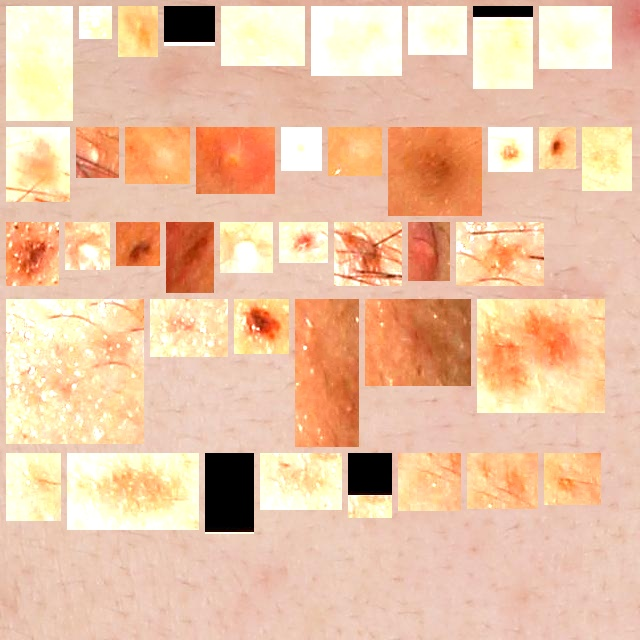hypertrophic_scar: (133, 135, 182, 176), (336, 135, 374, 168), (289, 135, 314, 163)
melasma: (14, 307, 136, 436), (485, 307, 597, 405), (75, 461, 191, 522), (373, 307, 463, 378), (303, 307, 351, 439), (14, 14, 65, 113), (319, 14, 394, 68), (464, 230, 536, 278), (229, 14, 297, 58), (481, 14, 525, 81), (268, 461, 334, 502), (547, 14, 604, 61), (158, 307, 220, 349), (475, 461, 530, 501), (213, 461, 246, 526), (14, 461, 53, 513), (406, 461, 453, 503), (590, 135, 624, 183), (552, 461, 593, 497), (416, 14, 459, 47), (356, 461, 384, 510), (126, 14, 150, 49), (172, 14, 207, 38)
nevus: (396, 135, 474, 208), (14, 135, 62, 194), (342, 230, 394, 278), (14, 230, 51, 278), (174, 230, 206, 285), (242, 307, 281, 346), (496, 135, 525, 164), (287, 230, 320, 255), (124, 230, 152, 258), (547, 135, 568, 161)
pustule: (204, 135, 267, 186), (228, 230, 265, 265), (416, 230, 442, 273), (84, 135, 111, 170), (73, 230, 102, 262), (87, 14, 104, 31)
